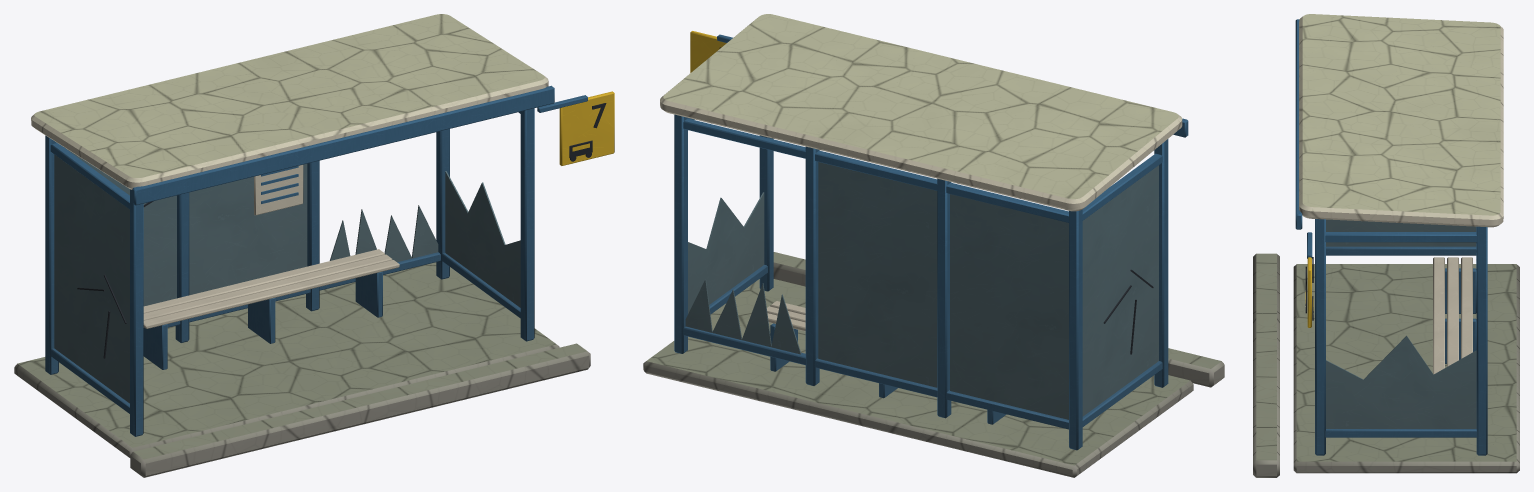
The model's file is bus_shelter.glb.
3 renders of one model, left to right at view 1: azimuth 30°, elevation 25°; view 2: azimuth 150°, elevation 25°; view 3: azimuth 270°, elevation 25°, orthographic. The views are drawn at different scales.
Parts seen in each view (by area): view 1: bus_shelter; view 2: bus_shelter; view 3: bus_shelter.
Boxes of the visible parts, <box> form: bus_shelter: <box>14,14,614,477</box>; bus_shelter: <box>643,14,1224,477</box>; bus_shelter: <box>1253,14,1519,477</box>.
Size of the model in its own units: 5.12 by 2.71 by 2.47.
13 materials, 13 textured.
